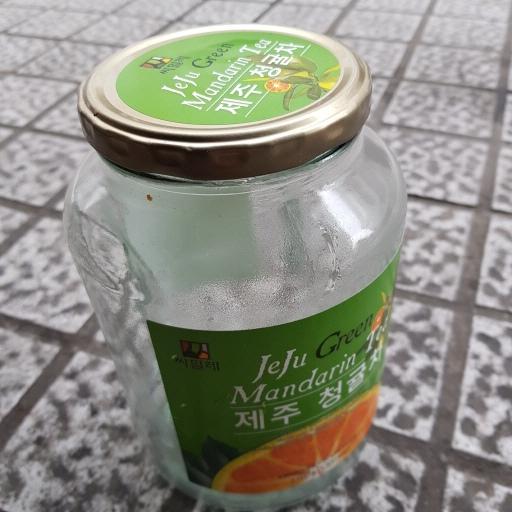Glass_5: (63, 20, 406, 505)
